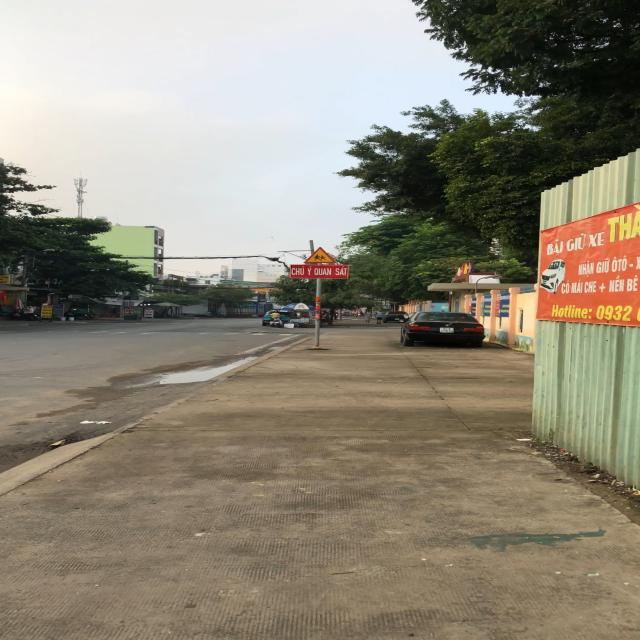Bien bao tre em: (303, 246, 338, 264)
